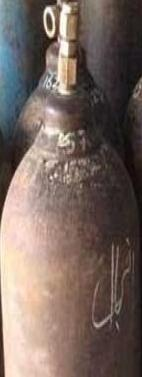cylinder: (1, 0, 142, 377)
